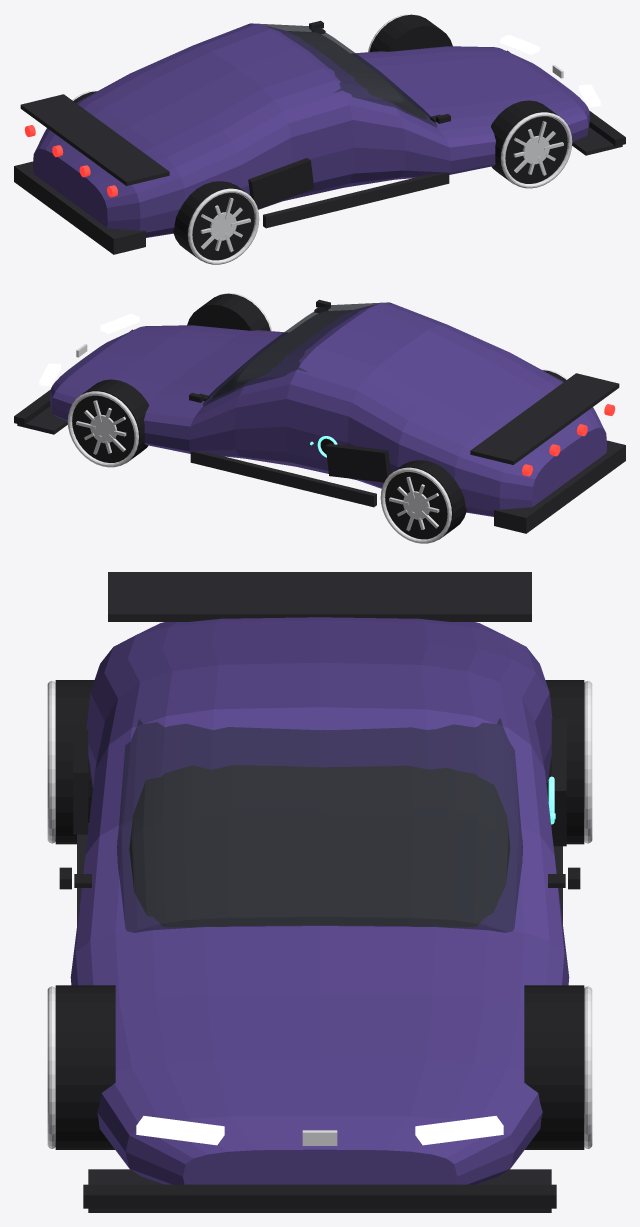
Rendered from car_vip.glb.
3 renders of one model, top to bottom at view 1: azimuth 30°, elevation 25°; view 2: azimuth 150°, elevation 25°; view 3: azimuth 270°, elevation 25°, orthographic. The views are drawn at different scales.
Parts seen in each view (by area): view 1: CarBody, Ducktail, Glass, Tire1, Tire3, Diffuser, SkirtL, Cabin, Tire0, ScoopL, Lip1, Lip3 (+5 smaller); view 2: CarBody, Ducktail, Glass, Tire0, Tire2, Diffuser, SkirtR, Cabin, Tire1, ScoopR, Lip0, Lip2 (+5 smaller); view 3: CarBody, Glass, Cabin, Ducktail, SplitLip, Tire0, Tire1, Tire3, SplitterF, Tire2, ScoopR, HeadL (+6 smaller).
Part boxes in pixels (x1,y1,x2,y2): CarBody: (33,23,590,237); Ducktail: (20,94,169,185); Glass: (246,23,436,127); Tire1: (490,100,567,183); Tire3: (173,181,254,260); Diffuser: (14,161,145,254); SkirtL: (263,173,449,228); Cabin: (287,31,427,119); Tire0: (369,14,452,51); ScoopL: (248,158,314,209); Lip1: (501,112,572,188); Lip3: (188,188,259,264); CarBody: (49,302,606,516); Ducktail: (470,373,619,464); Glass: (203,302,392,406); Tire0: (72,379,149,462); Tire2: (385,460,466,539); Diffuser: (494,440,625,533); SkirtR: (190,451,376,507); Cabin: (212,310,352,397); Tire1: (187,293,270,330); ScoopR: (325,443,390,482); Lip0: (67,391,138,467); Lip2: (380,467,451,543); CarBody: (70,617,569,1184); Glass: (117,718,522,932); Cabin: (129,765,510,927); Ducktail: (108,572,531,621); SplitLip: (83,1184,556,1208); Tire0: (524,985,584,1149); Tire1: (55,985,115,1149); Tire3: (55,680,94,844); SplitterF: (88,1169,551,1212); Tire2: (545,680,584,844); ScoopR: (551,718,566,846); HeadL: (136,1116,224,1145).
Size of the model in its own units: 4.66 by 1.18 by 2.18.
